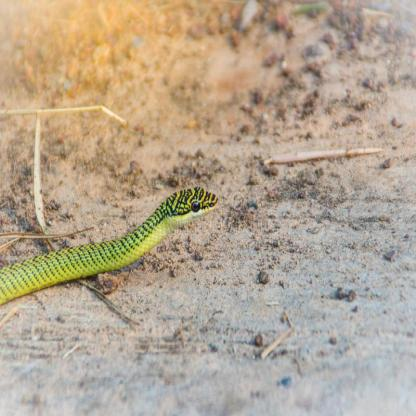Snake: (6, 181, 217, 306)
